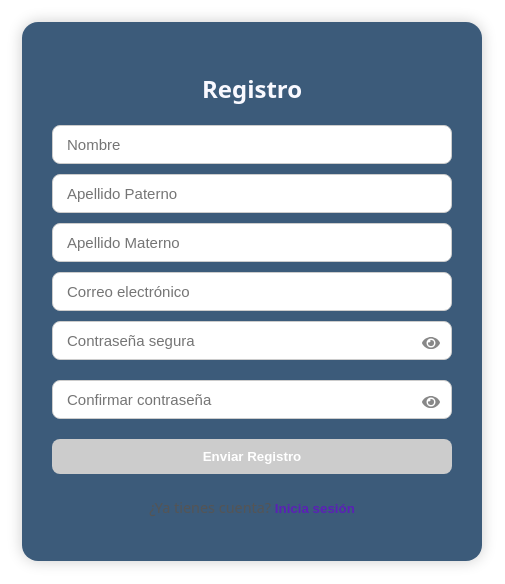
Scenario: Registro › registro paso 1 → avanza a paso 2
Type "Ana" into the field with placeholder "Nombre".
click(252, 144); type("Ana")  # box [52,125,452,164]
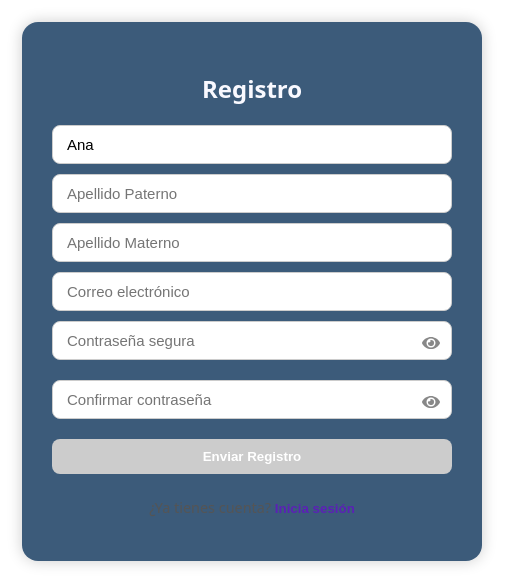
Type "López" into the field with placeholder "Apellido Paterno".
click(252, 193); type("López")  # box [52,174,452,213]
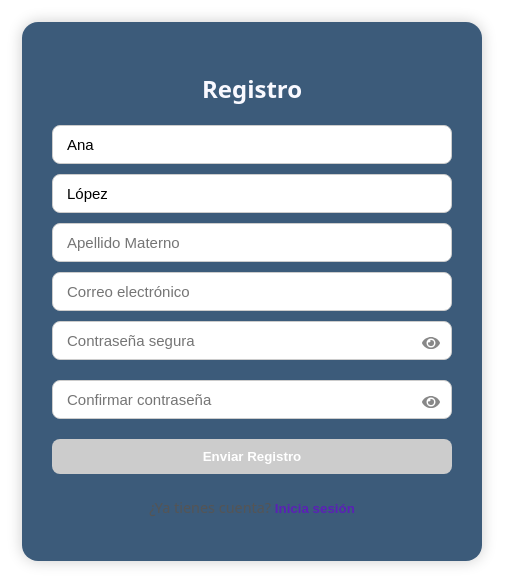
Type "a@a.com" into the field with placeholder "Correo electrónico".
click(252, 291); type("a@a.com")  # box [52,272,452,311]
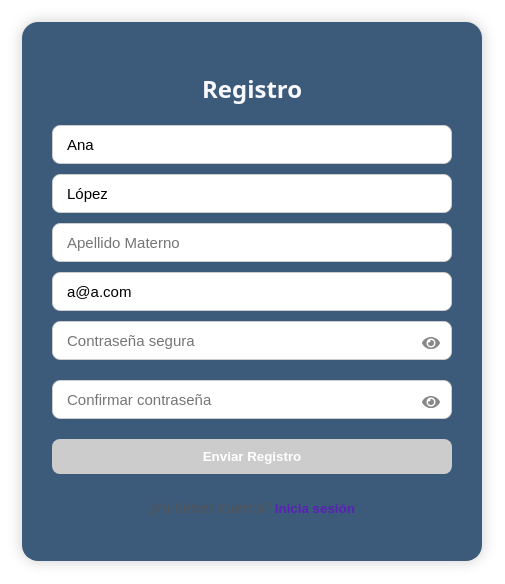
Type "Aa123456!" into the password field with placeholder "Contraseña segura".
click(252, 340); type("Aa123456!")  # box [52,321,452,360]
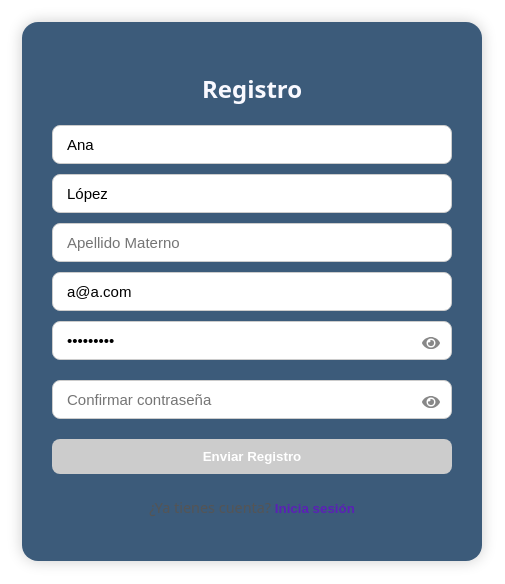
Type "Aa123456!" into the password field with placeholder "Confirmar contraseña".
click(252, 399); type("Aa123456!")  # box [52,380,452,419]
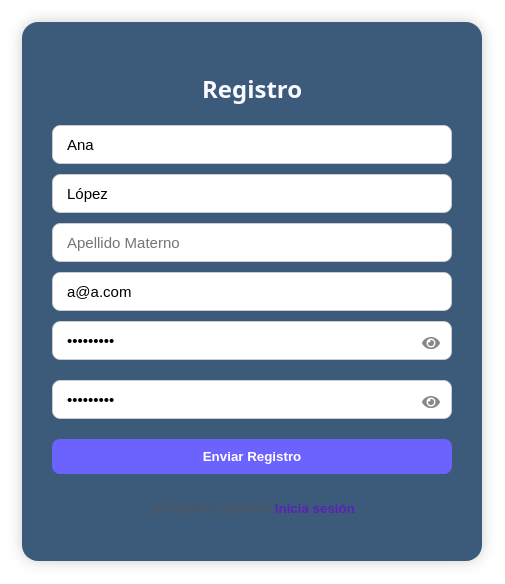
Click the button "Enviar Registro".
click(252, 456)  # box [52,439,452,474]
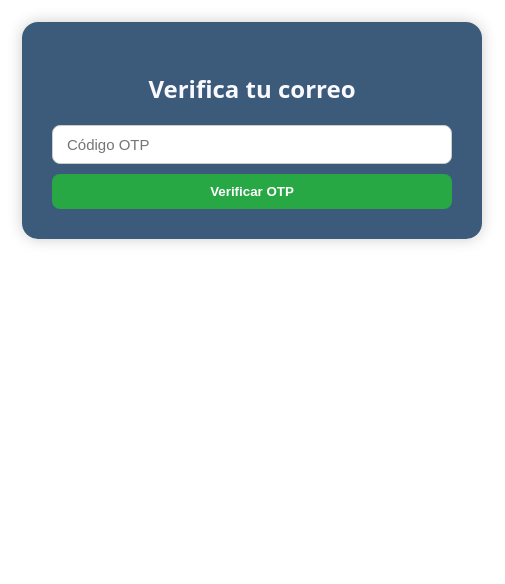
Expected: the heading "Verifica tu correo" is shown, [148,72,356,105]
